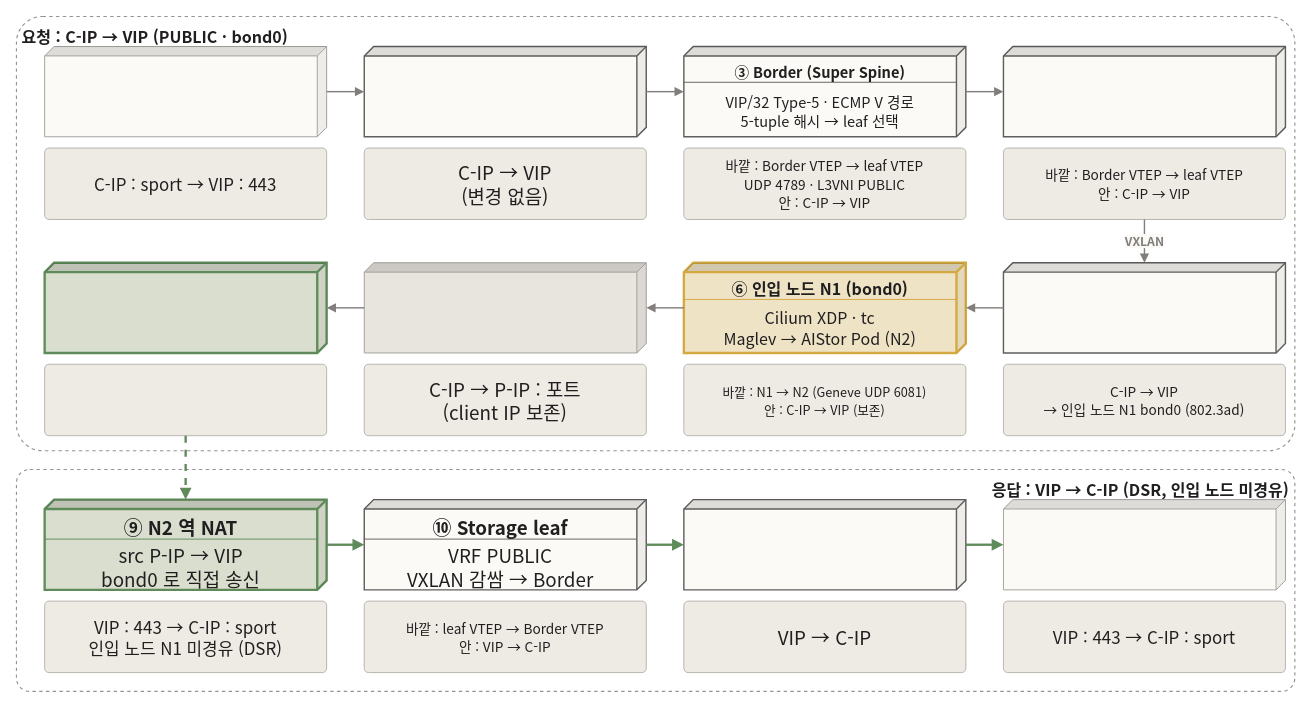
The diagram is 1312 pixels wide and 709 high, and some of its shapes have lost their labels. The centre of each missing label's shape, as x and y in pixels:
"① 외부 ETL client C-IP S3 요청 (TCP 443)" goes at (x=185, y=91).
"② FA Core 방화벽 허용 VIP 대역 → Border" goes at (x=505, y=91).
"④ Spine underlay 라우팅 바깥 IP(VTEP) 만 봄" goes at (x=1144, y=91).
"⑤ Storage leaf (VTEP) VXLAN 풂 · VRF PUBLIC VIP/32 → 노드 BGP multipath" goes at (x=1144, y=307).
"⑦ 백엔드 노드 N2 Geneve 풂 · VIP → P-IP netkit 로 Pod 전달" goes at (x=504, y=307).
"⑧ AIStor Pod S3 처리 client IP = C-IP" goes at (x=185, y=307).
"⑪ Border · FA Core VXLAN 풂 방화벽 세션 일치" goes at (x=824, y=544).
"⑫ 외부 ETL client 응답 수신 src = VIP" goes at (x=1144, y=544).
"응답 생성 P-IP → C-IP" goes at (x=185, y=399).
